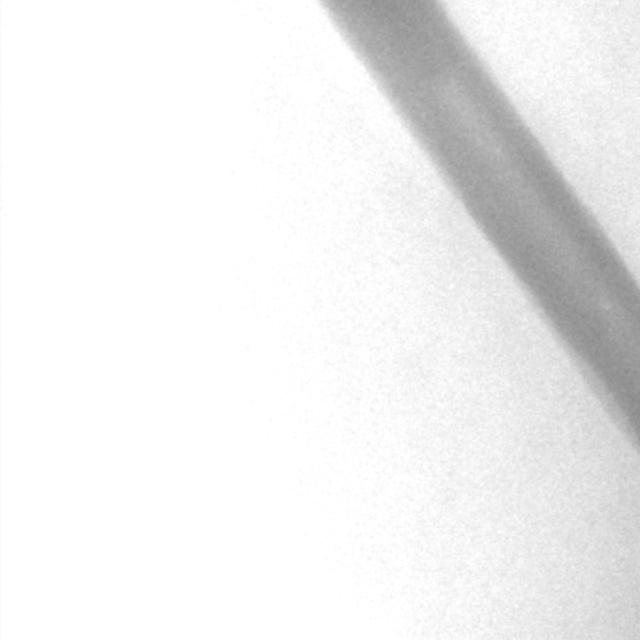air-hole: (600, 295, 613, 309)
